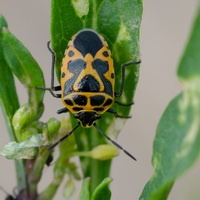insect: (40, 28, 140, 159)
